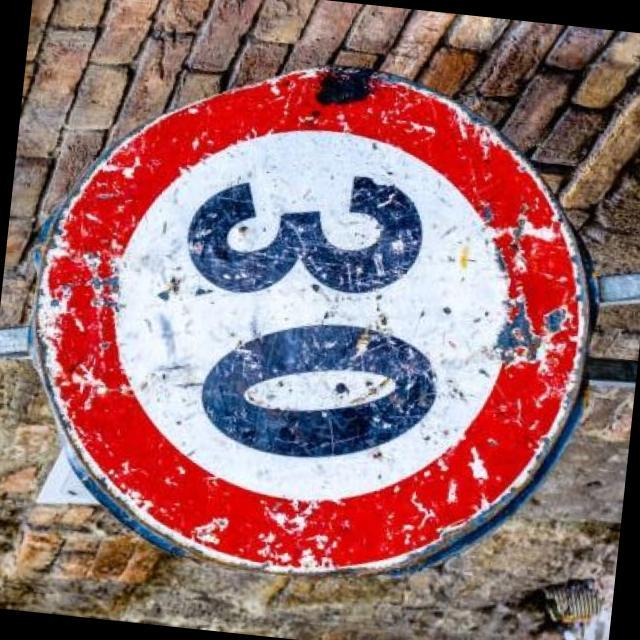obstructed_road_sign: (34, 69, 590, 572)
